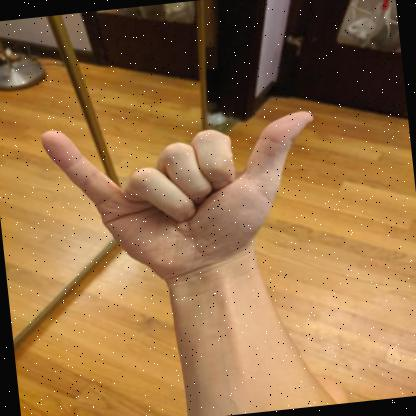Y: (40, 111, 313, 283)
